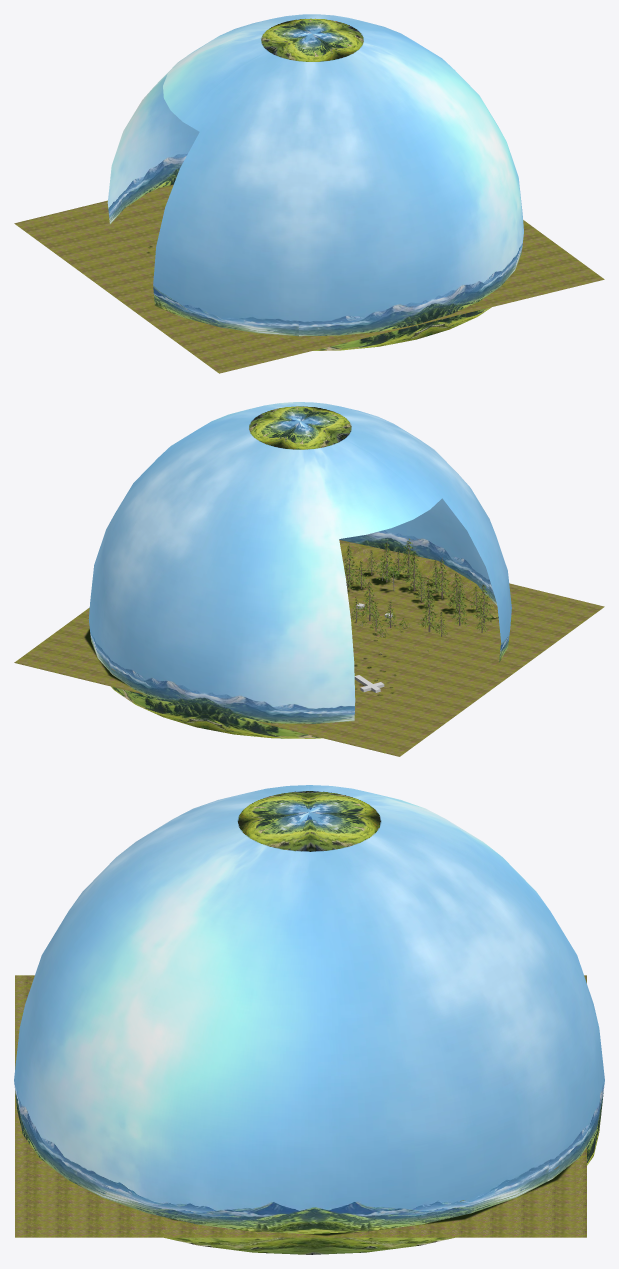
File: deer-hunt-scene-compressed.glb
The picture shows the model from 3 angles, top to bottom: view 1: azimuth 30°, elevation 25°; view 2: azimuth 150°, elevation 25°; view 3: azimuth 270°, elevation 25°; orthographic projection. The views are drawn at different scales.
Parts seen in each view (by area): view 1: skybox, ground; view 2: skybox, ground, hill, shdow overlay; view 3: skybox, ground.
Part boxes in pixels (left/top/right/bottom): skybox: left=107, top=14, right=523, bottom=350; ground: left=14, top=184, right=604, bottom=373; skybox: left=88, top=402, right=511, bottom=738; ground: left=14, top=568, right=604, bottom=756; hill: left=112, top=540, right=498, bottom=670; shdow overlay: left=84, top=568, right=498, bottom=695; skybox: left=14, top=785, right=604, bottom=1254; ground: left=15, top=975, right=586, bottom=1237.
Size of the model in its own units: 147 by 83.78 by 140.
9 materials, 9 textured.
